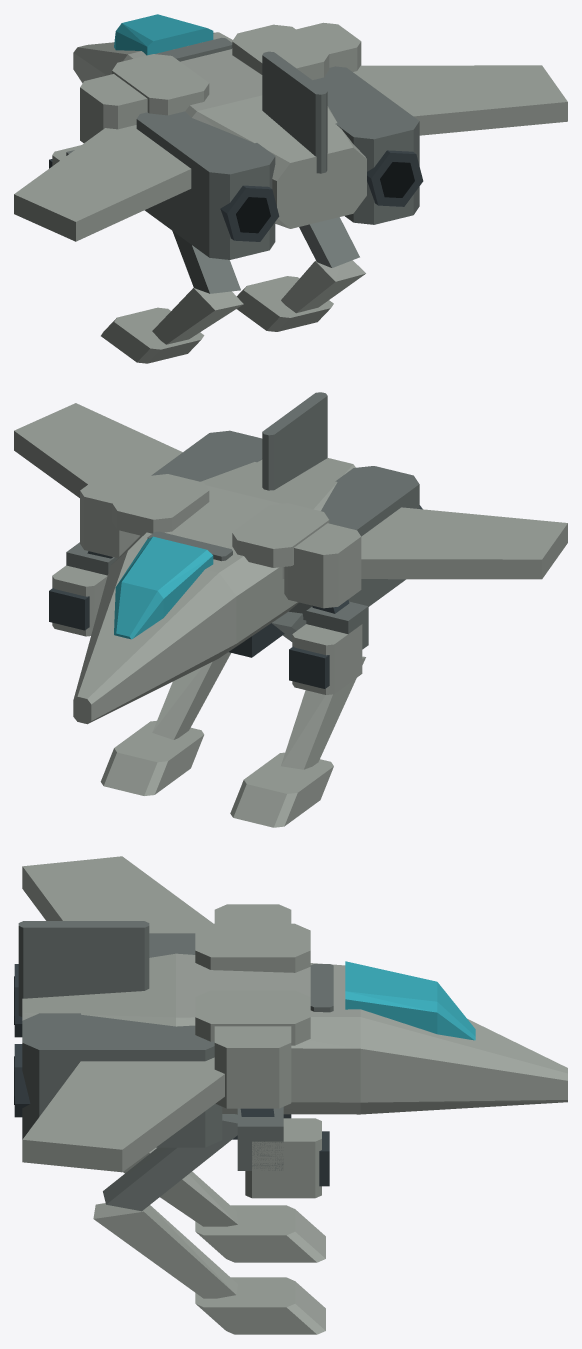
File: fallback-airmek-superheavy.glb
The picture shows the model from 3 angles, top to bottom: view 1: azimuth 30°, elevation 25°; view 2: azimuth 150°, elevation 25°; view 3: azimuth 270°, elevation 25°; orthographic projection. The views are drawn at different scales.
Visible parts, largest first — view 1: LT, CT, RT, wing-1, wing1, LA, LL-foot, RL-foot, HD, LL-shin, RL-shin, LL (+2 smaller); view 2: LT, CT, wing-1, RT, wing1, HD, LA, LL-foot, RL-foot, RA, LL-shin, LA@forearm (+8 smaller); view 3: RT, CT, wing1, wing-1, LT, RA, HD, RL-foot, LL-foot, RL-shin, RA@forearm, RL (+3 smaller).
Boxes of the visible parts, left/top/right/bottom form: LT: left=86, top=50, right=293, bottom=259; CT: left=73, top=39, right=350, bottom=228; RT: left=213, top=24, right=423, bottom=224; wing-1: left=14, top=125, right=191, bottom=241; wing1: left=353, top=65, right=567, bottom=135; LA: left=80, top=74, right=147, bottom=142; LL-foot: left=101, top=307, right=204, bottom=363; RL-foot: left=237, top=276, right=333, bottom=331; HD: left=114, top=14, right=213, bottom=55; LL-shin: left=152, top=287, right=243, bottom=344; RL-shin: left=281, top=260, right=365, bottom=313; LL: left=172, top=231, right=240, bottom=293; LT: left=143, top=463, right=422, bottom=692; CT: left=73, top=392, right=349, bottom=724; wing-1: left=282, top=507, right=567, bottom=579; RT: left=87, top=430, right=262, bottom=649; wing1: left=14, top=403, right=182, bottom=497; HD: left=114, top=536, right=213, bottom=639; LA: left=284, top=523, right=361, bottom=613; LL-foot: left=230, top=752, right=333, bottom=827; RL-foot: left=100, top=720, right=204, bottom=795; RA: left=80, top=472, right=144, bottom=558; LL-shin: left=281, top=656, right=365, bottom=769; LA@forearm: left=292, top=624, right=362, bottom=694; RT: left=14, top=990, right=492, bottom=1147; CT: left=18, top=921, right=567, bottom=1109; wing1: left=22, top=1057, right=224, bottom=1172; wing-1: left=22, top=856, right=212, bottom=933; LT: left=14, top=923, right=345, bottom=1037; RA: left=214, top=1026, right=291, bottom=1116; HD: left=345, top=961, right=475, bottom=1040; RL-foot: left=195, top=1277, right=325, bottom=1334; LL-foot: left=195, top=1205, right=325, bottom=1262; RL-shin: left=93, top=1203, right=237, bottom=1298; RA@forearm: left=245, top=1118, right=321, bottom=1198; RL: left=103, top=1114, right=237, bottom=1211.
Size of the model in its own units: 134 by 76.35 by 107.
